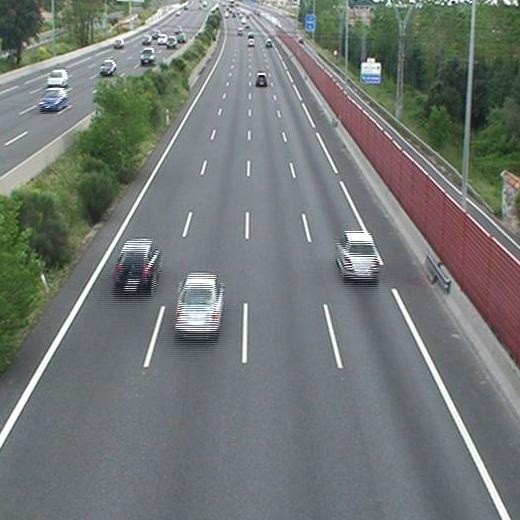car: (176, 274, 222, 333), (115, 242, 160, 291), (337, 232, 379, 279), (255, 73, 266, 85), (247, 39, 255, 47), (265, 40, 271, 48)
